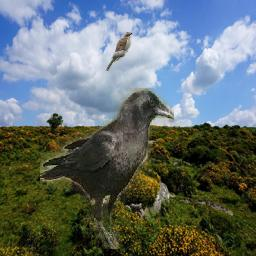Crow: (40, 89, 174, 250)
Cuckoo: (106, 33, 133, 72)
